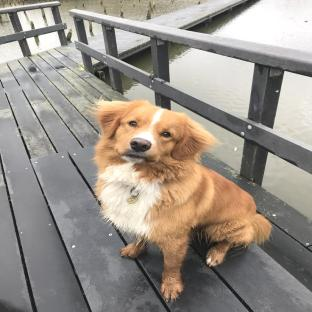Animal: (94, 99, 271, 300)
